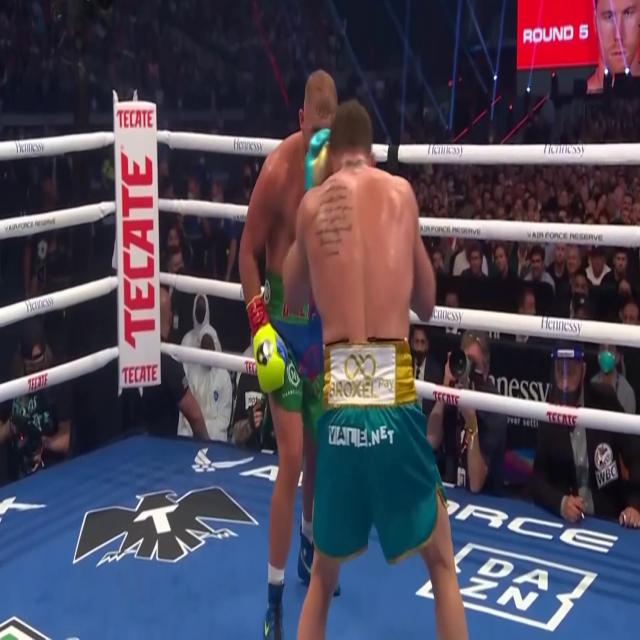boxer_1: (264, 69, 338, 324)
boxer_2: (307, 98, 419, 412)
gloves_1: (246, 294, 287, 393)
gloves_2: (304, 127, 331, 191)
